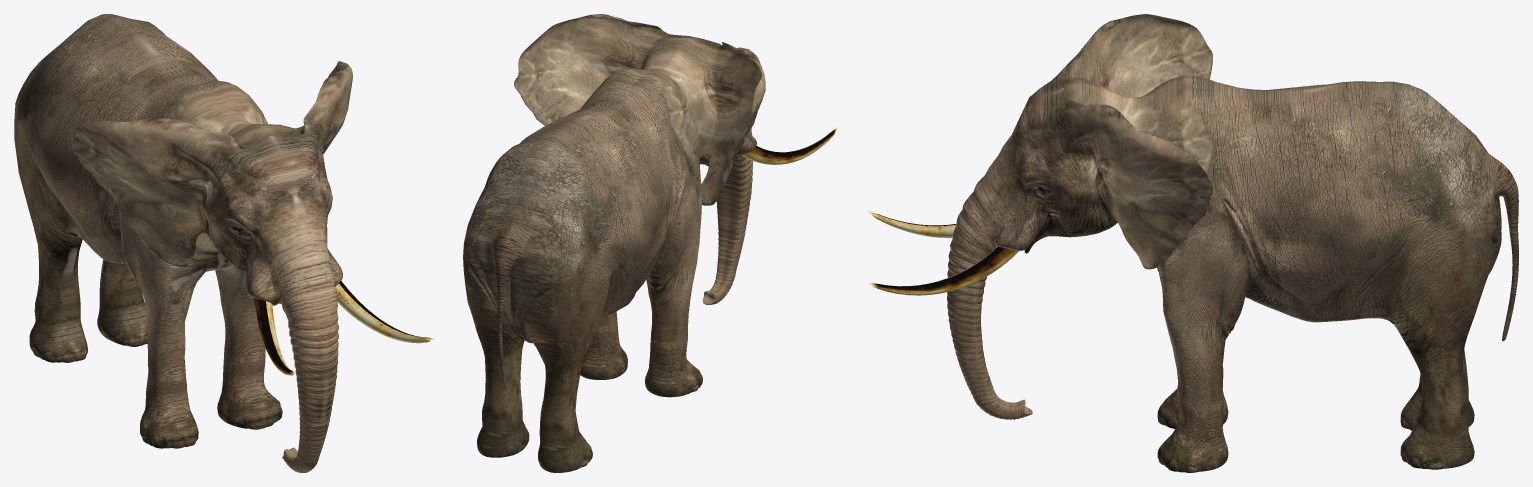
The model's file is elephant2.glb.
3 renders of one model, left to right at view 1: azimuth 30°, elevation 25°; view 2: azimuth 150°, elevation 25°; view 3: azimuth 270°, elevation 25°, orthographic. The views are drawn at different scales.
Parts seen in each view (by area): view 1: 3DSMeshMatrix, 3DSMeshMatrix_4, 3DSMeshMatrix_3; view 2: 3DSMeshMatrix, 3DSMeshMatrix_3; view 3: 3DSMeshMatrix, 3DSMeshMatrix_4, 3DSMeshMatrix_3.
Part boxes in pixels (x1=…): 3DSMeshMatrix: x1=14, y1=14, x2=352, y2=472; 3DSMeshMatrix_4: x1=335, y1=281, x2=433, y2=343; 3DSMeshMatrix_3: x1=253, y1=298, x2=294, y2=375; 3DSMeshMatrix: x1=463, y1=14, x2=765, y2=472; 3DSMeshMatrix_3: x1=742, y1=127, x2=838, y2=164; 3DSMeshMatrix: x1=947, y1=14, x2=1518, y2=472; 3DSMeshMatrix_4: x1=868, y1=246, x2=1018, y2=295; 3DSMeshMatrix_3: x1=867, y1=211, x2=956, y2=238.
Bounding box in the file's own units: 38.25 × 50.16 × 79.23.
Materials: 3 (2 with a texture image).
